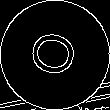O_E: (25, 28, 85, 82)
